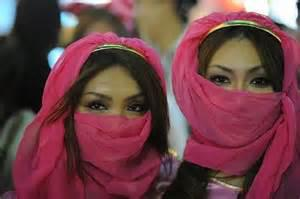NONE: (72, 83, 155, 166)
OK: (205, 58, 279, 137)
